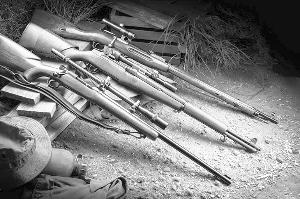sniper: (0, 31, 239, 190), (15, 20, 270, 157), (28, 7, 283, 131)
